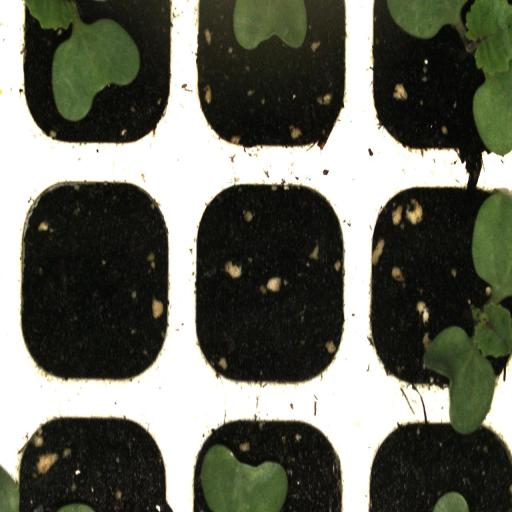noseedling: (7, 169, 182, 403), (181, 172, 355, 399)
seedling: (356, 172, 512, 399), (358, 2, 512, 174)
